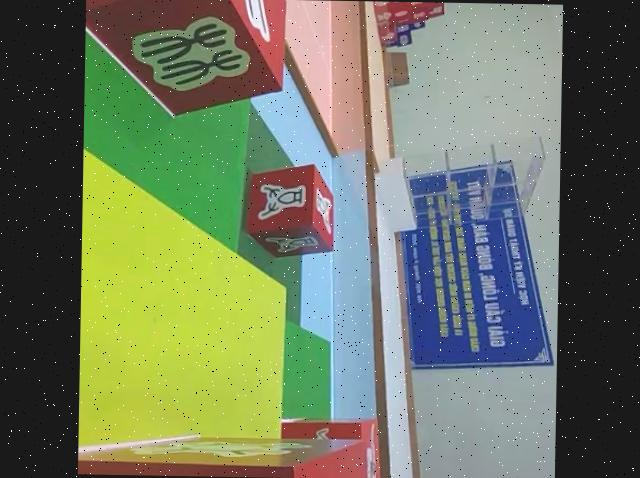R2 Fake: (83, 0, 291, 119)
R2 Real: (76, 432, 375, 478), (243, 162, 337, 257)
